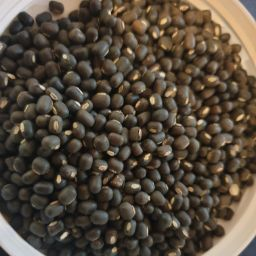Black Gram(urad daal): (1, 103, 256, 253), (9, 71, 254, 227), (3, 2, 256, 128)
